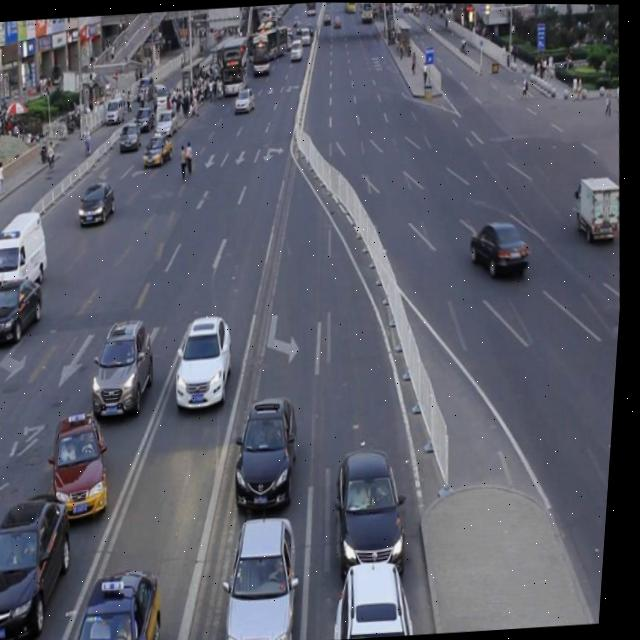bus: (573, 171, 625, 242)
car: (0, 485, 87, 640), (334, 445, 419, 581), (223, 511, 311, 640), (232, 394, 309, 512), (59, 565, 174, 640), (335, 556, 432, 640), (88, 317, 164, 422), (50, 410, 119, 523), (173, 310, 241, 409), (470, 215, 535, 278), (0, 274, 51, 347), (78, 179, 120, 225)
truck: (0, 209, 57, 300)
